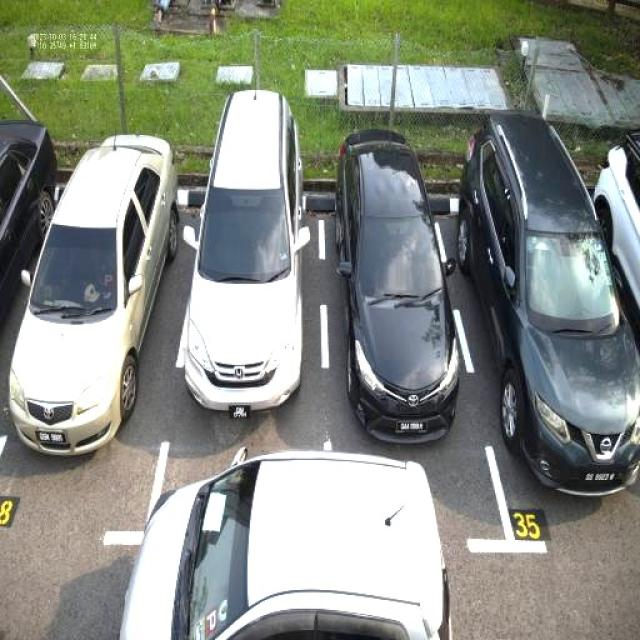Legalparking: (458, 111, 639, 494), (9, 134, 176, 455), (182, 90, 309, 418), (335, 130, 459, 439), (0, 120, 56, 320), (594, 130, 639, 335)
illegalparking: (121, 448, 451, 639)
